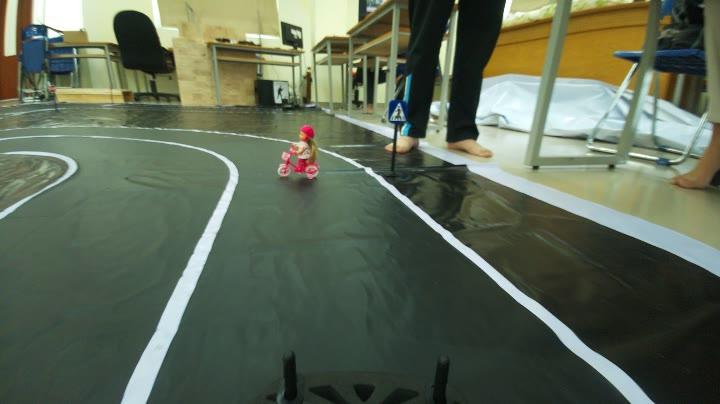crosswalk: (383, 97, 408, 130)
pedestrian: (270, 124, 324, 183)
